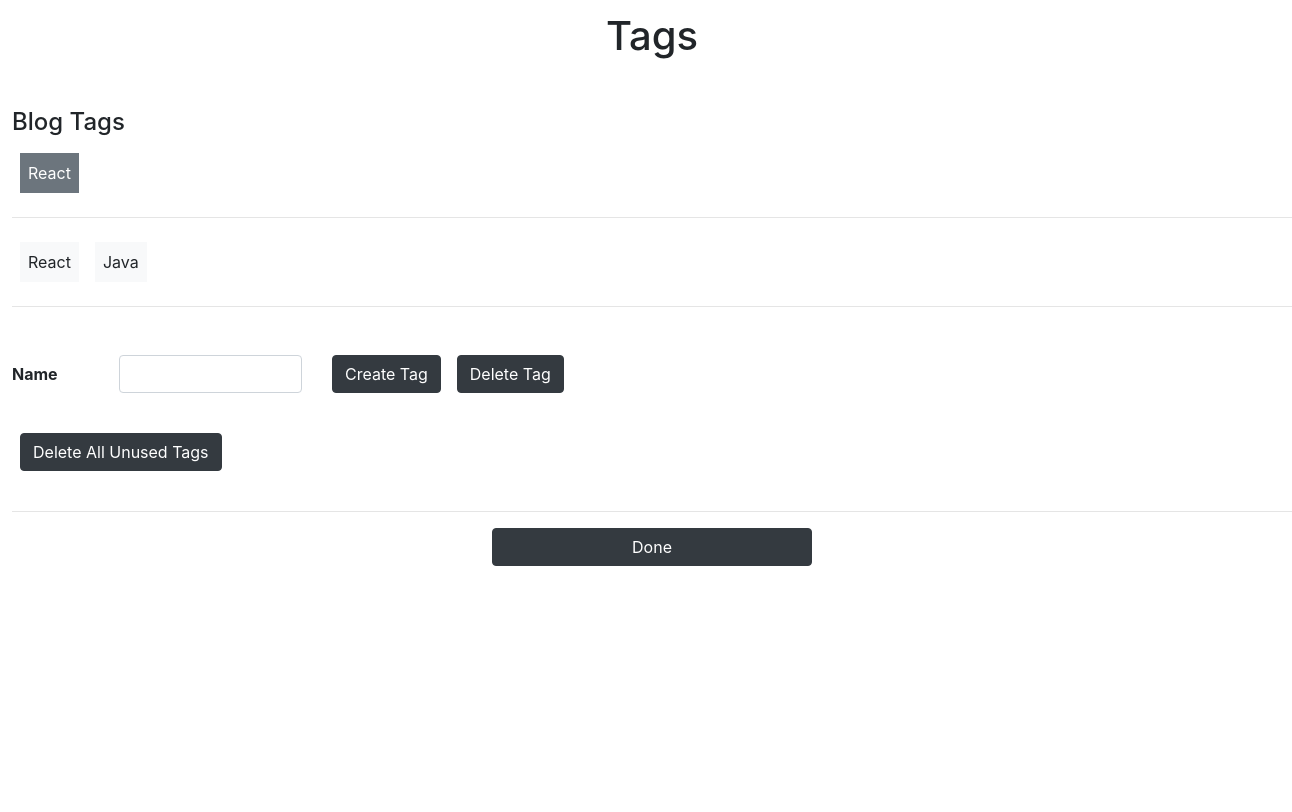
Scenario: given a tag is created › should do nothing if tag name already exists
Expected: the text "Java" is shown, top-left (95, 242), bottom-right (147, 282)
In the field labelled "Name": (210, 374) top-left (119, 355), bottom-right (302, 393), type "react"
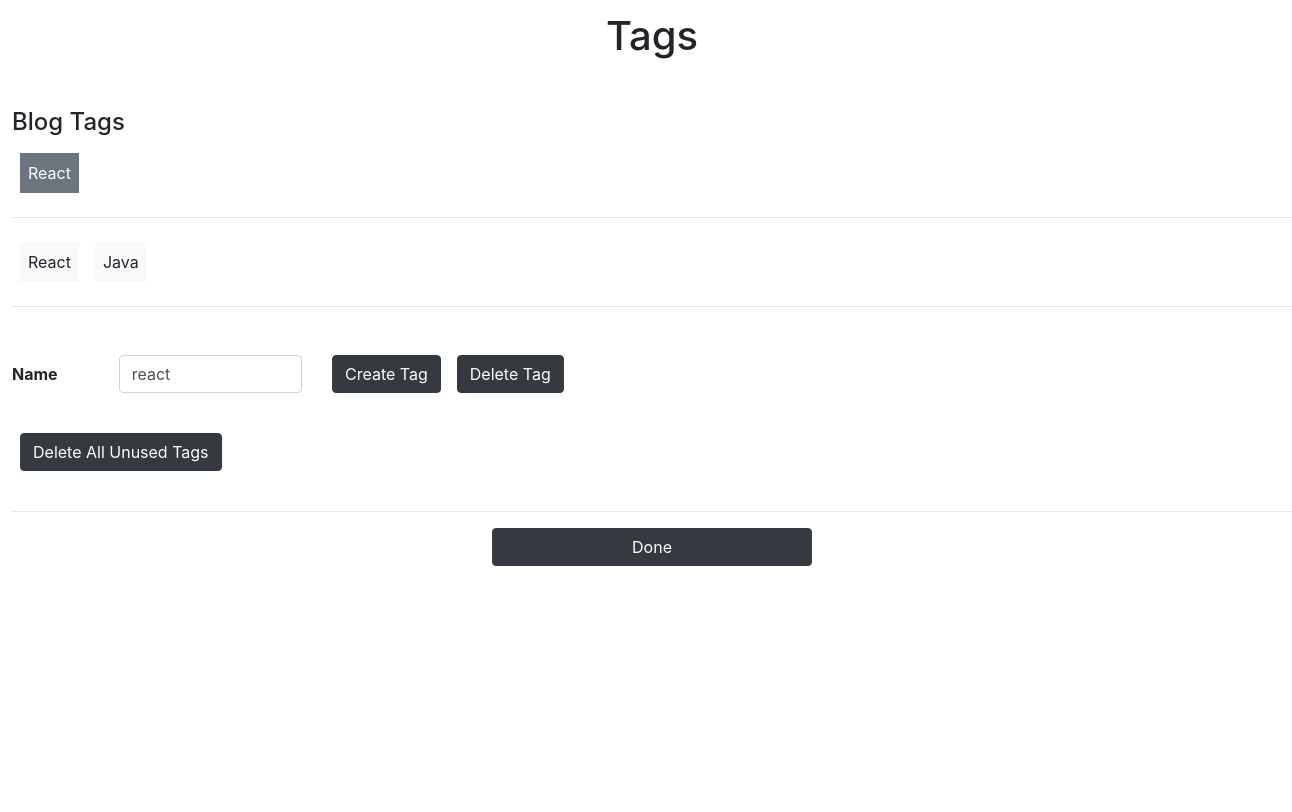
Click the button "Create Tag": (386, 374) top-left (332, 355), bottom-right (441, 393)
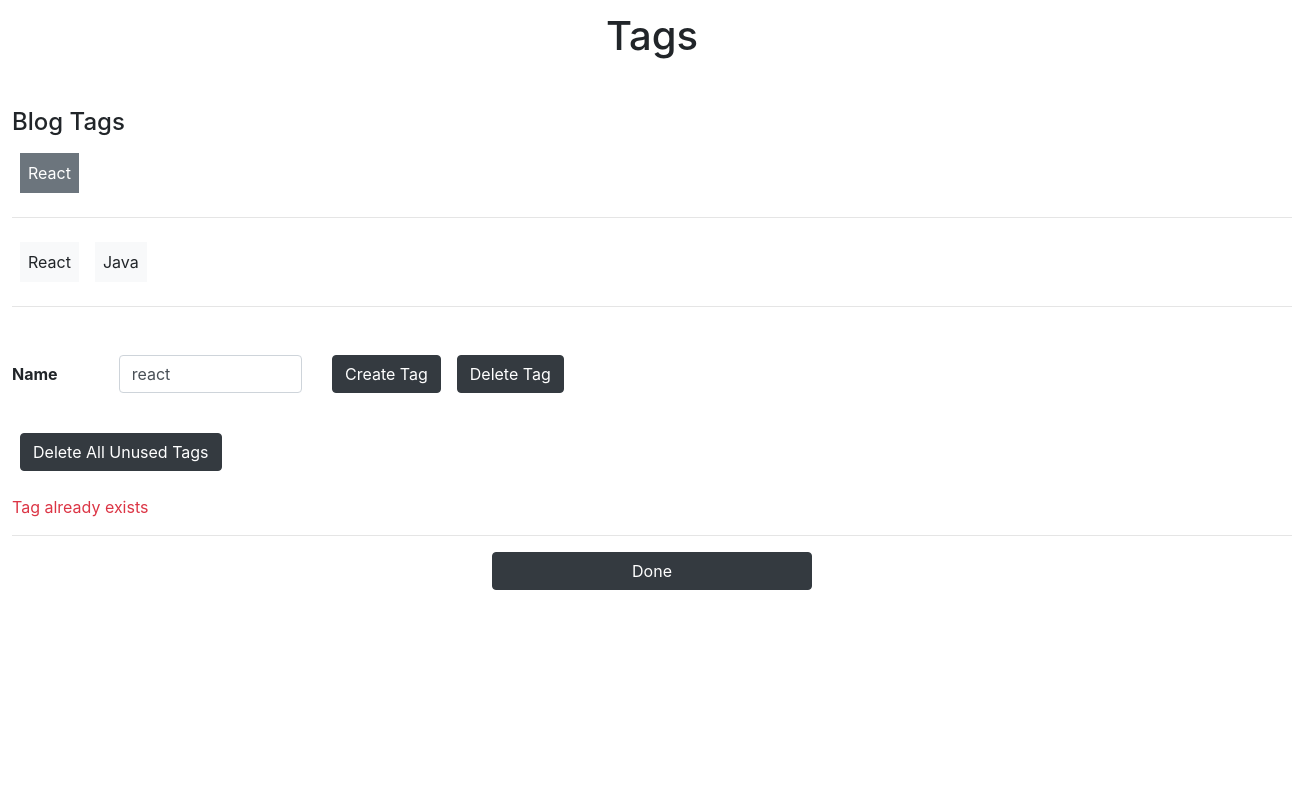
Result: the text "Tag already exists" is shown at top-left (12, 497), bottom-right (148, 517)
